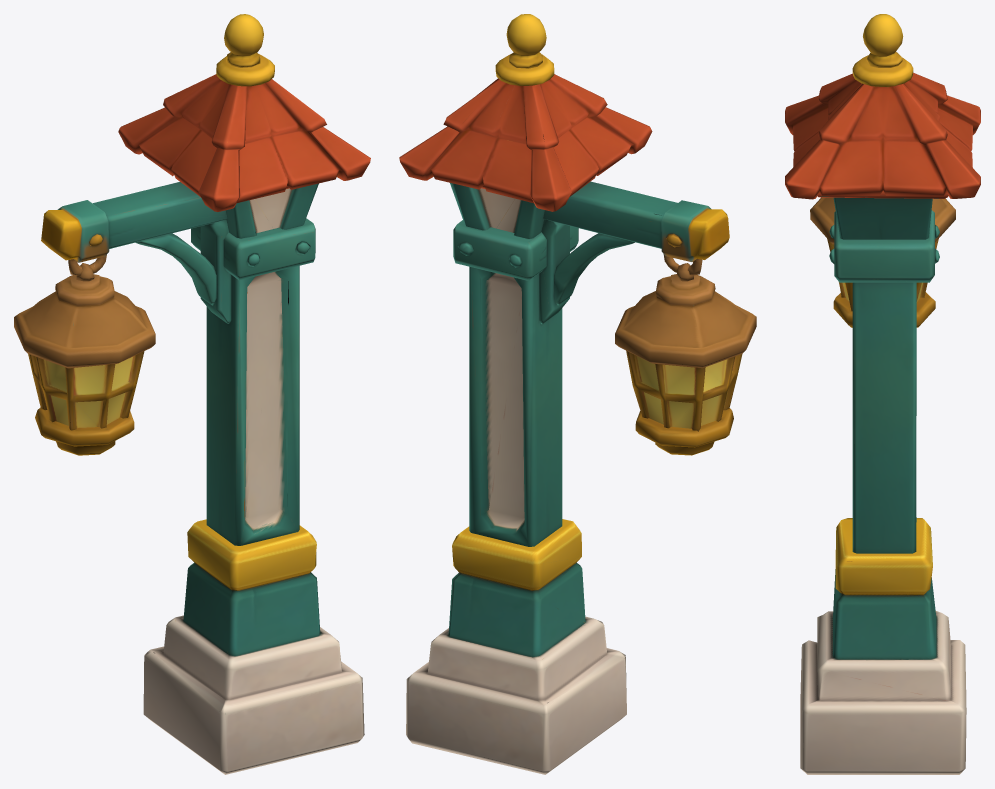
The model's file is lamp_painted.glb.
The picture shows the model from 3 angles, left to right: view 1: azimuth 30°, elevation 25°; view 2: azimuth 150°, elevation 25°; view 3: azimuth 270°, elevation 25°; orthographic projection.
Parts seen in each view (by area): view 1: geometry_0; view 2: geometry_0; view 3: geometry_0.
Part boxes in pixels (box(x1,y1,x2,y2)): geometry_0: box(14, 14, 370, 774); geometry_0: box(399, 14, 756, 774); geometry_0: box(785, 14, 980, 774).
Bounding box in the file's own units: 0.4189 × 0.9517 × 0.2339.
1 material, 1 textured.
